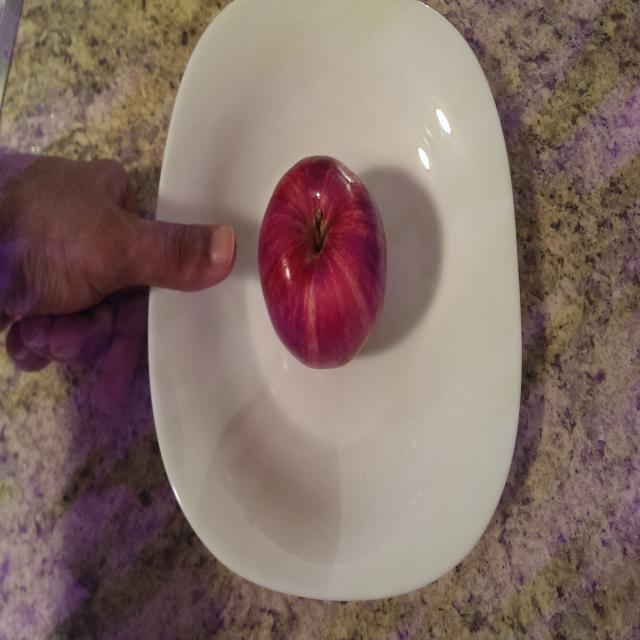Apple: (255, 147, 394, 376)
Finger: (159, 212, 242, 304)
